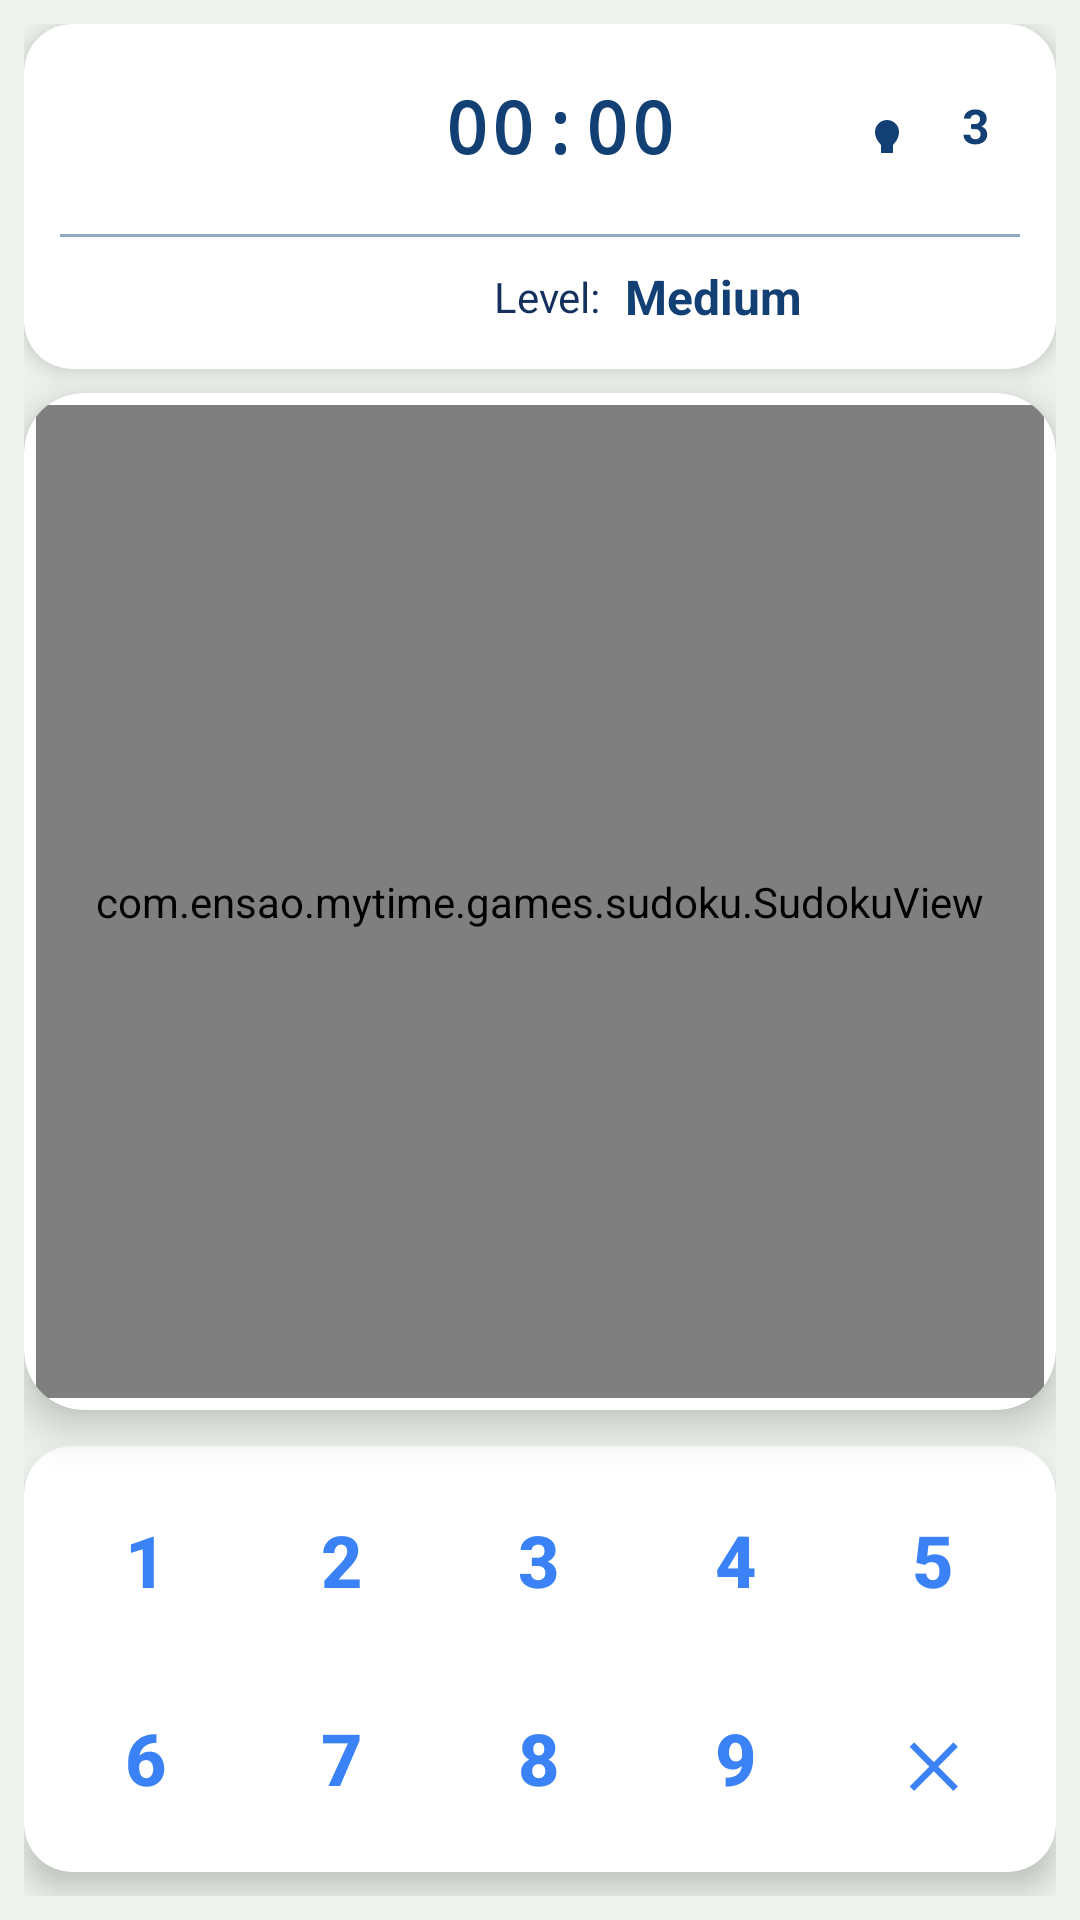

Icons on this 1080w x 1920h Android screen, each with the point to tap as [x,y]:
Hint: [887,136]
